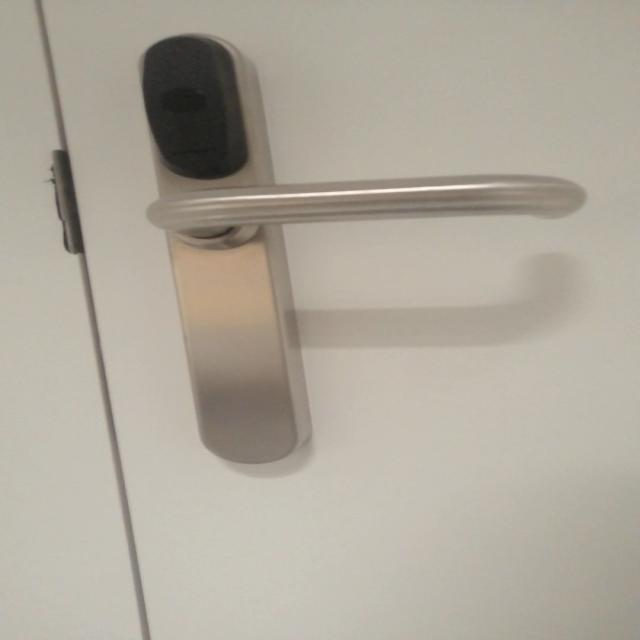door_handle: (139, 165, 599, 260)
